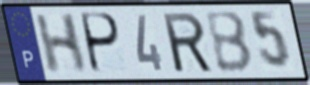4: (135, 13, 164, 72)
5: (246, 9, 295, 75)
B: (203, 9, 256, 75)
H: (33, 12, 89, 77)
P: (80, 11, 123, 76)
R: (159, 10, 215, 75)
